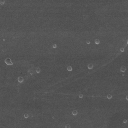corrosion: (4, 56, 14, 66), (16, 74, 25, 83), (119, 64, 128, 73), (66, 64, 73, 72), (87, 62, 94, 70), (22, 112, 30, 119), (71, 109, 78, 117), (106, 92, 113, 100), (122, 117, 128, 125), (51, 43, 58, 49), (34, 67, 41, 73), (94, 38, 100, 45), (78, 93, 84, 100), (119, 46, 125, 53), (85, 39, 91, 45)
